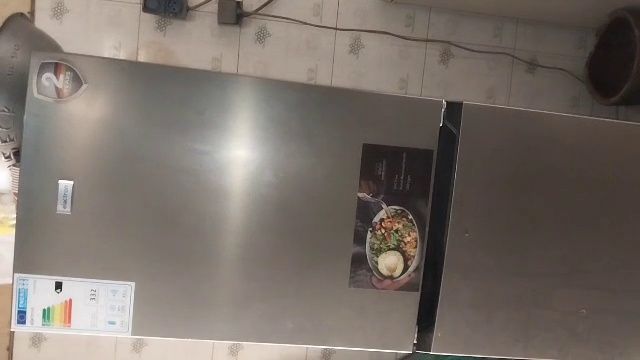refrigerator: (10, 41, 640, 360)
